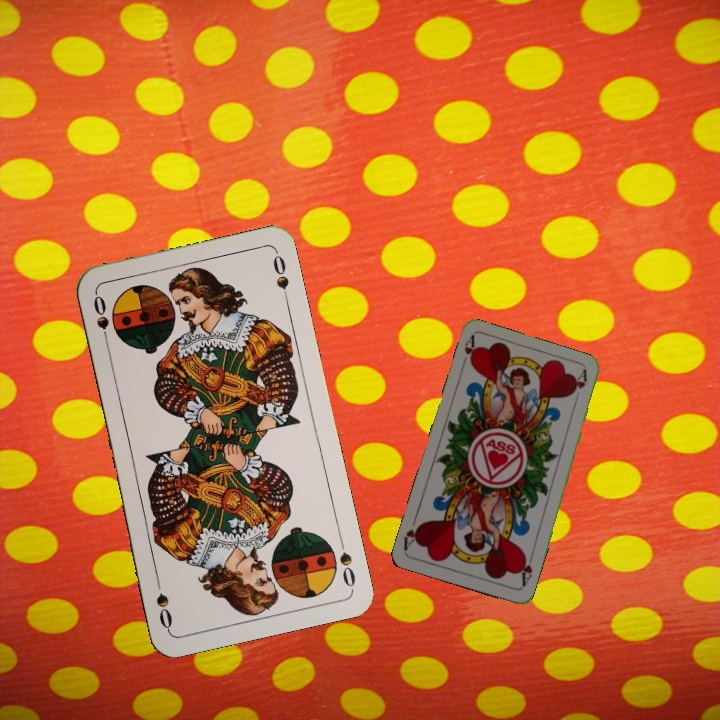HA: (457, 333, 480, 372), (515, 549, 536, 589)
SO: (334, 533, 358, 590), (89, 290, 112, 349)
